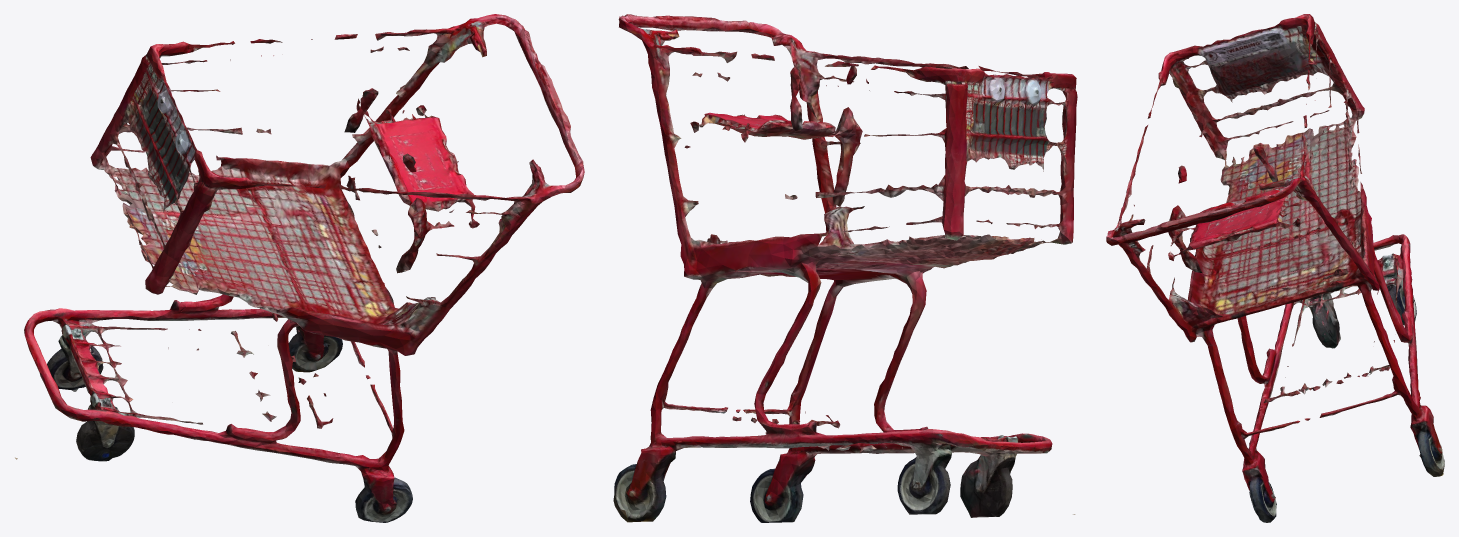
The model's file is shoppingcart.glb.
3 views of the same model, side by side, from view 1: azimuth 30°, elevation 25°; view 2: azimuth 150°, elevation 25°; view 3: azimuth 270°, elevation 25° (orthographic). The views are drawn at different scales.
Bounding box in the file's own units: 1.18 × 1.2 × 0.8742.
Materials: 1 (1 with a texture image).
